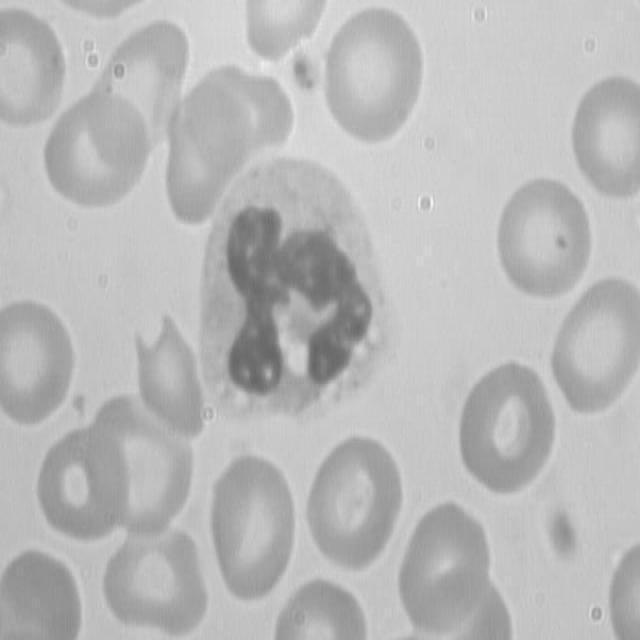Platelets: (287, 48, 316, 99)
RBC: (298, 431, 418, 578), (310, 12, 427, 153), (203, 452, 301, 608), (455, 361, 562, 499), (490, 171, 597, 308), (37, 94, 152, 218), (95, 516, 210, 639), (394, 497, 491, 639), (543, 281, 640, 420), (1, 295, 77, 436), (568, 70, 640, 210), (1, 0, 67, 135), (1, 540, 91, 639)
WBC: (188, 150, 398, 426)
